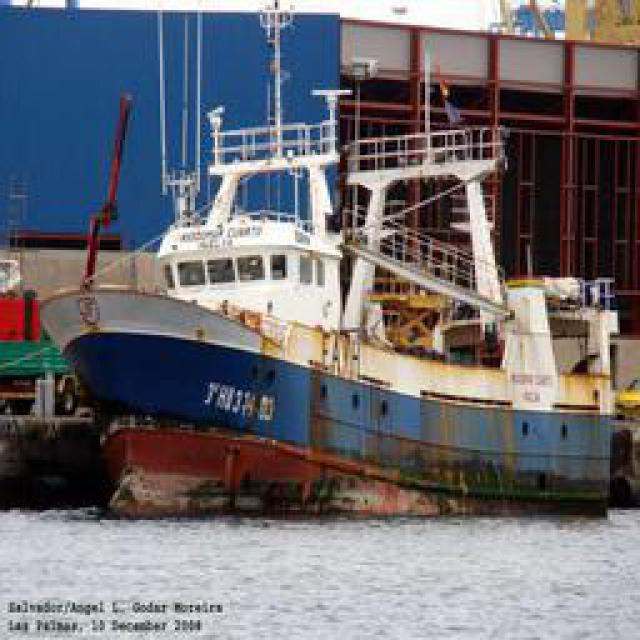Ship: (59, 92, 632, 515)
